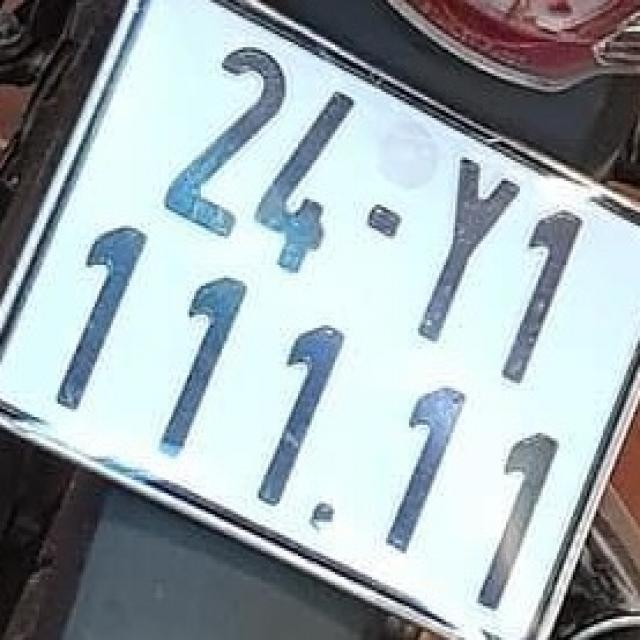1: (250, 309, 352, 522), (150, 262, 252, 464), (51, 218, 150, 420), (376, 376, 469, 566), (471, 420, 559, 620), (499, 200, 587, 388)
2: (156, 36, 286, 230)
4: (264, 89, 364, 265)
Y: (414, 124, 518, 360)
